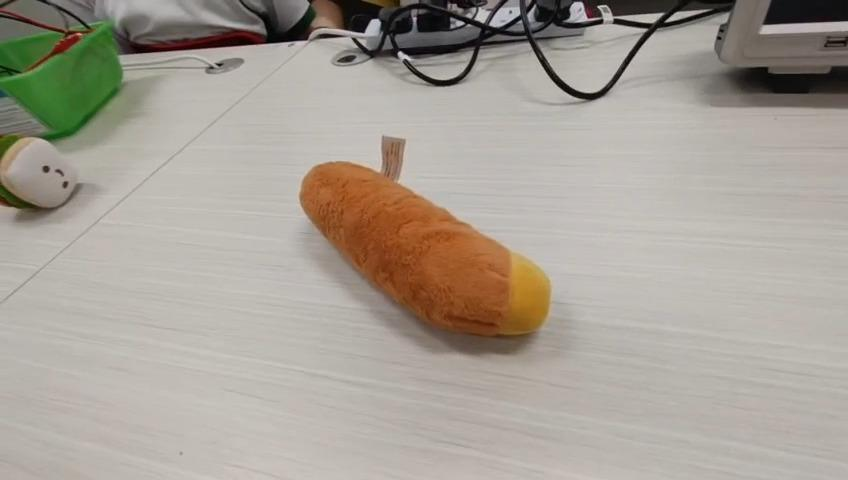hotdog: (298, 157, 552, 337)
